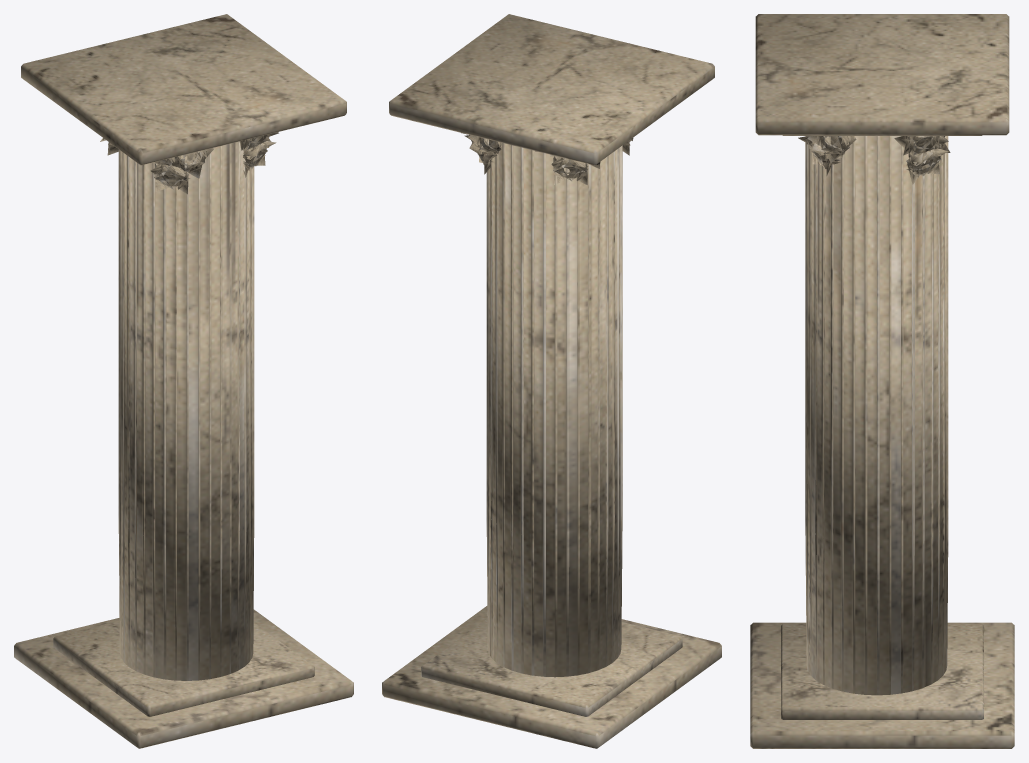
Rendered from column.fbx.
The picture shows the model from 3 angles, left to right: view 1: azimuth 30°, elevation 25°; view 2: azimuth 150°, elevation 25°; view 3: azimuth 270°, elevation 25°; orthographic projection. The views are drawn at different scales.
Parts seen in each view (by area): view 1: Cylinder, Cube.002, Cube, Cube.003, Cube.007; view 2: Cylinder, Cube.002, Cube, Cube.003, Cube.008, Cube.009; view 3: Cylinder, Cube.002, Cube, Cube.003, Cube.009, Cube.004, Cube.006.
Part boxes in pixels (bbox=[...]): Cylinder: bbox=[118, 141, 254, 680]; Cube.002: bbox=[21, 14, 346, 165]; Cube: bbox=[14, 609, 353, 748]; Cube.003: bbox=[53, 620, 314, 716]; Cube.007: bbox=[150, 148, 213, 194]; Cylinder: bbox=[486, 143, 622, 677]; Cube.002: bbox=[389, 14, 714, 165]; Cube: bbox=[382, 606, 721, 748]; Cube.003: bbox=[421, 618, 682, 716]; Cube.008: bbox=[535, 151, 600, 184]; Cube.009: bbox=[461, 133, 501, 174]; Cylinder: bbox=[805, 136, 948, 695]; Cube.002: bbox=[755, 14, 1009, 135]; Cube: bbox=[750, 622, 1014, 748]; Cube.003: bbox=[781, 623, 983, 719]; Cube.009: bbox=[894, 136, 950, 184]; Cube.004: bbox=[807, 136, 856, 162]; Cube.006: bbox=[798, 136, 840, 175].
Size of the model in its own units: 383 by 1005 by 383.
